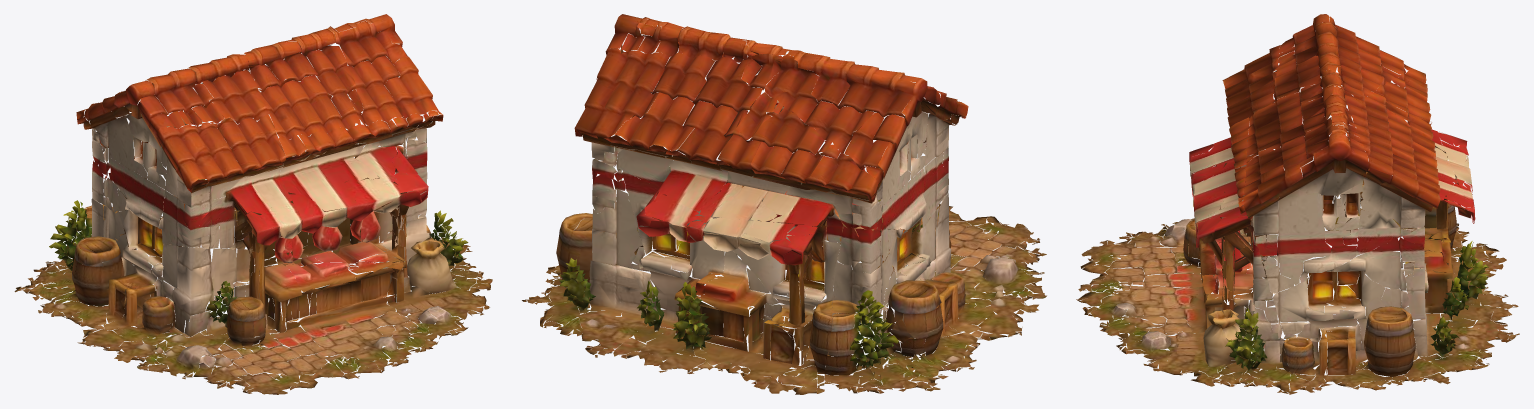
The model's file is boucherie_t3.glb.
3 views of the same model, side by side, from view 1: azimuth 30°, elevation 25°; view 2: azimuth 150°, elevation 25°; view 3: azimuth 270°, elevation 25° (orthographic). The views are drawn at different scales.
Visible parts, largest first — view 1: boucherie_t3; view 2: boucherie_t3; view 3: boucherie_t3.
Part boxes in pixels (x1,y1,x2,y2): boucherie_t3: (14, 14, 492, 394); boucherie_t3: (522, 14, 1046, 394); boucherie_t3: (1076, 14, 1519, 394).
Bounding box in the file's own units: 0.9959 × 0.5584 × 0.9749.
1 material, 1 textured.
